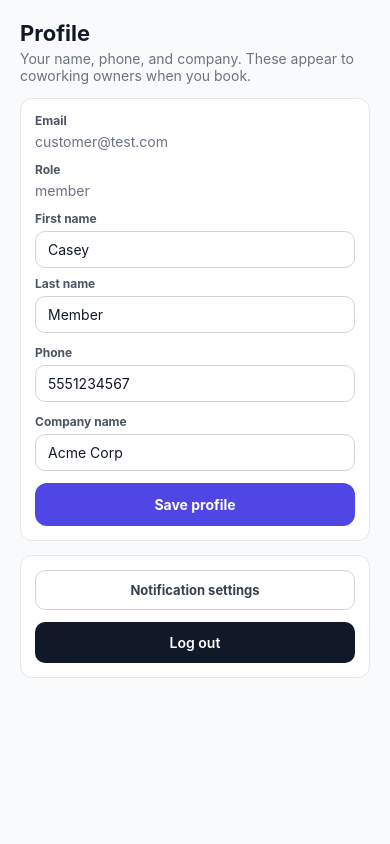
Test: ProfileScreen › sanitizes phone input to digits capped at 10
This screenshot has width=390, height=844.
Type "(585) 555-0199 ext 42" into the field named "Phone" at point(195, 384), box [35,365,355,402]
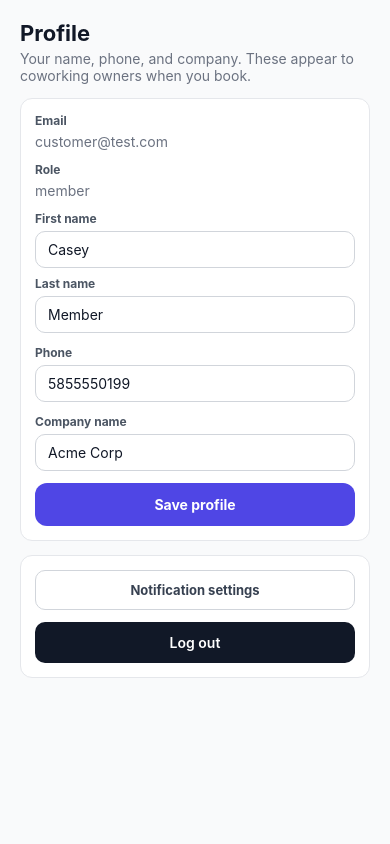
Check: the field named "Phone" holds "5855550199", box [35,365,355,402]
